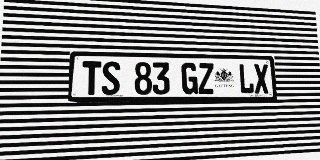3: (152, 62, 170, 95)
8: (134, 62, 152, 95)
G: (181, 63, 198, 94)
L: (238, 64, 254, 94)
S: (101, 61, 120, 95)
T: (82, 61, 101, 95)
X: (253, 64, 269, 94)
Z: (198, 63, 214, 94)
